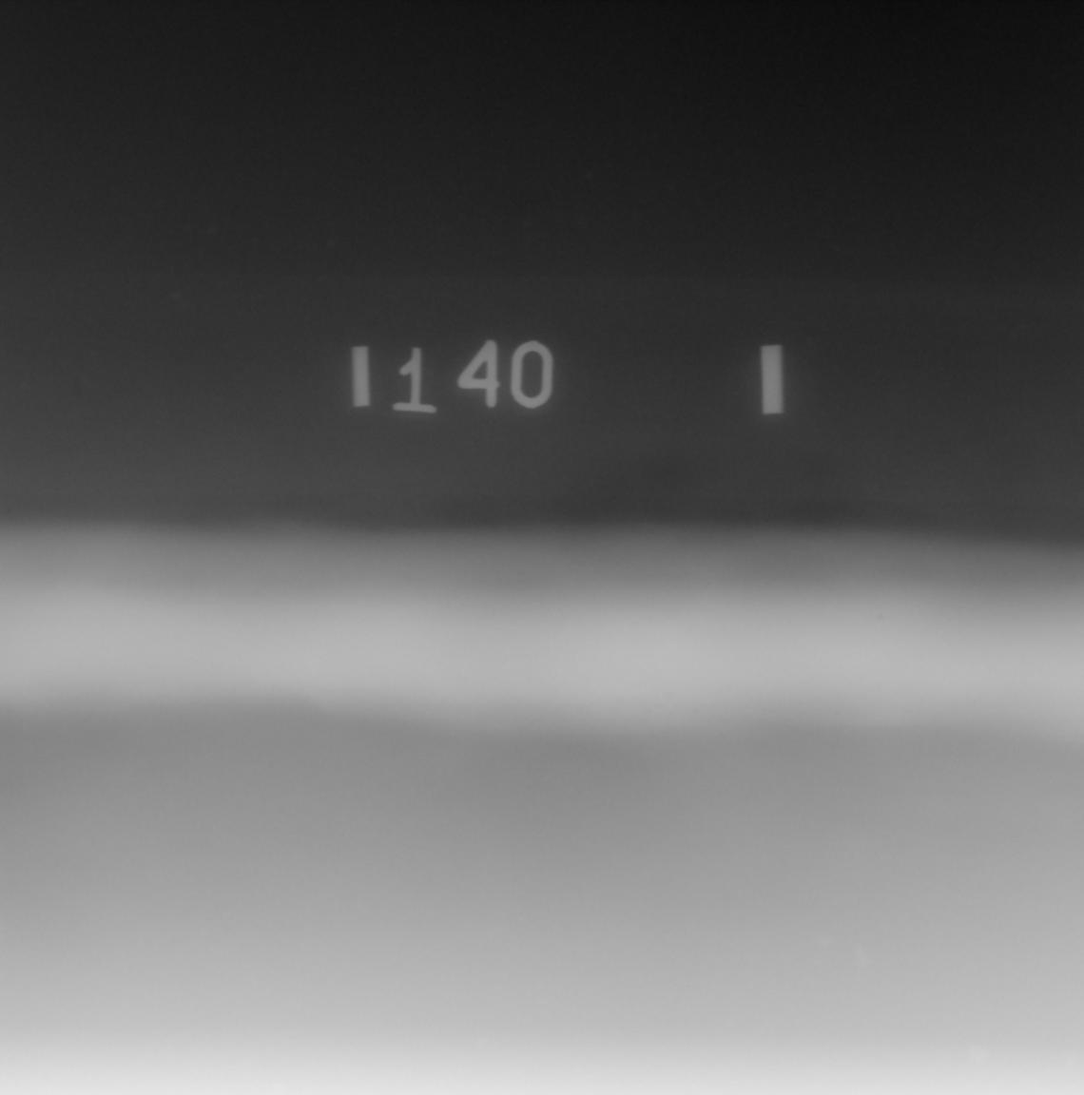Pore/Porosity: (875, 614, 884, 621)
